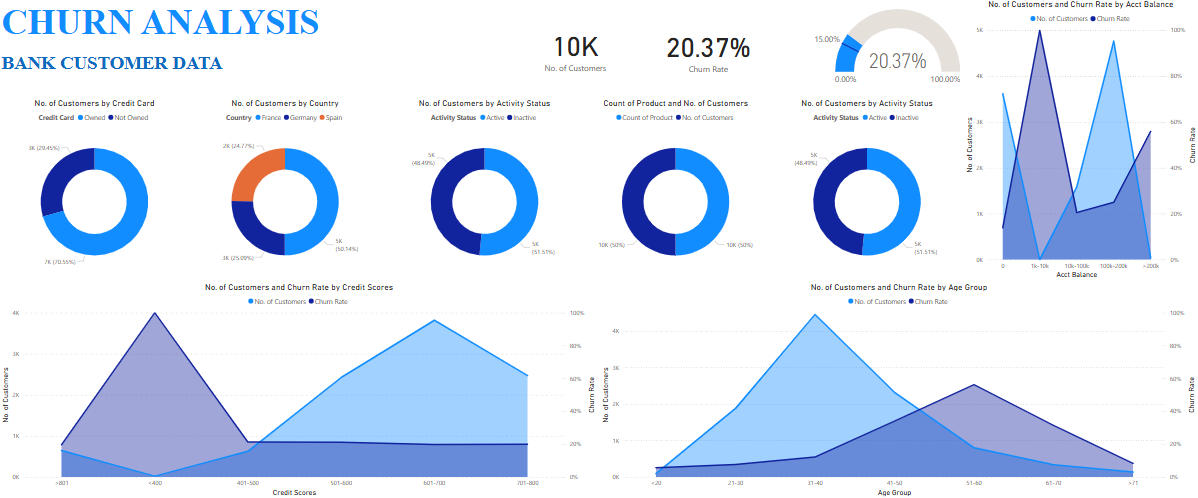

What the dashboard file says about the page in this screenshot:
{"tool":"powerbi","page":{"name":"Page 1","canvas":[2400,1000],"ordinal":0},"visuals":[{"type":"card","fields":{"Values":["Bank Customer Churn Prediction.Customers"]},"box":[1012.5,0,280,197.5],"z":0},{"type":"card","fields":{"Values":["Bank Customer Churn Prediction.Churn Rate"]},"box":[1292.5,2.5,252.5,197.5],"z":1000},{"type":"donutChart","fields":{"Category":["Bank Customer Churn Prediction.Credit Card"],"Y":["Bank Customer Churn Prediction.Customers"]},"box":[0,197.5,382.5,367.5],"z":2000},{"type":"donutChart","fields":{"Category":["Bank Customer Churn Prediction.Activity Status"],"Y":["Bank Customer Churn Prediction.Customers"]},"box":[780,197.5,382.5,367.5],"z":3000},{"type":"donutChart","fields":{"Category":["Bank Customer Churn Prediction.Activity Status"],"Y":["Bank Customer Churn Prediction.Customers"]},"box":[1545,197.5,382.5,367.5],"z":4000},{"type":"donutChart","fields":{"Y":["Bank Customer Churn Prediction.Customers"],"Category":["Bank Customer Churn Prediction.Country"]},"box":[382.5,197.5,380,367.5],"z":5000},{"type":"donutChart","fields":{"Y":["CountNonNull(Bank Customer Churn Prediction.Product)","Bank Customer Churn Prediction.Customers"]},"box":[1162.5,197.5,382,367.5],"z":6000},{"type":"areaChart","fields":{"Category":["Credit Scores Group.Credit Scores"],"Y":["Customer Data.No. of Customers"],"Y2":["Customer Data.Churn Rate"]},"box":[0,565,1200,435],"z":7000},{"type":"areaChart","fields":{"Category":["Age Groups.Age Group"],"Y":["Customer Data.No. of Customers"],"Y2":["Customer Data.Churn Rate"]},"box":[1200,565,1200,435],"z":8000},{"type":"areaChart","fields":{"Category":["Acct Balance Group.Acct Balance"],"Y":["Customer Data.No. of Customers"],"Y2":["Customer Data.Churn Rate"]},"box":[1927.5,0,472.5,565],"z":9000},{"type":"gauge","fields":{"Y":["Customer Data.Churn Rate"],"MinValue":["Min(Customer Data.Min Churn Rate)"],"MaxValue":["Max(Customer Data.Max Churn Rate)"],"TargetValue":["Max(Customer Data.Target Churn Rate)"]},"box":[1620,0,307.5,197.5],"z":10000},{"type":"textbox","box":[0,0,845,102.5],"z":12000},{"type":"textbox","box":[0,100,667.5,65],"z":12001}]}

Visuals, with their boxes in screenshot pixels (x1, y1, x2, y2), scaled from the page's 2400x1000 canvas onto the 1198x498 screenshot:
card - Bank Customer Churn Prediction.Customers: 505,0,645,98
card - Bank Customer Churn Prediction.Churn Rate: 645,1,771,100
donutChart - Bank Customer Churn Prediction.Credit Card x Bank Customer Churn Prediction.Customers: 0,98,191,281
donutChart - Bank Customer Churn Prediction.Activity Status x Bank Customer Churn Prediction.Customers: 389,98,580,281
donutChart - Bank Customer Churn Prediction.Activity Status x Bank Customer Churn Prediction.Customers: 771,98,962,281
donutChart - Bank Customer Churn Prediction.Customers x Bank Customer Churn Prediction.Country: 191,98,381,281
donutChart - CountNonNull(Bank Customer Churn Prediction.Product) x Bank Customer Churn Prediction.Customers: 580,98,771,281
areaChart - Credit Scores Group.Credit Scores x Customer Data.No. of Customers: 0,281,599,497
areaChart - Age Groups.Age Group x Customer Data.No. of Customers: 599,281,1197,497
areaChart - Acct Balance Group.Acct Balance x Customer Data.No. of Customers: 962,0,1197,281
gauge - Customer Data.Churn Rate x Min(Customer Data.Min Churn Rate): 809,0,962,98
textbox: 0,0,422,51
textbox: 0,50,333,82
